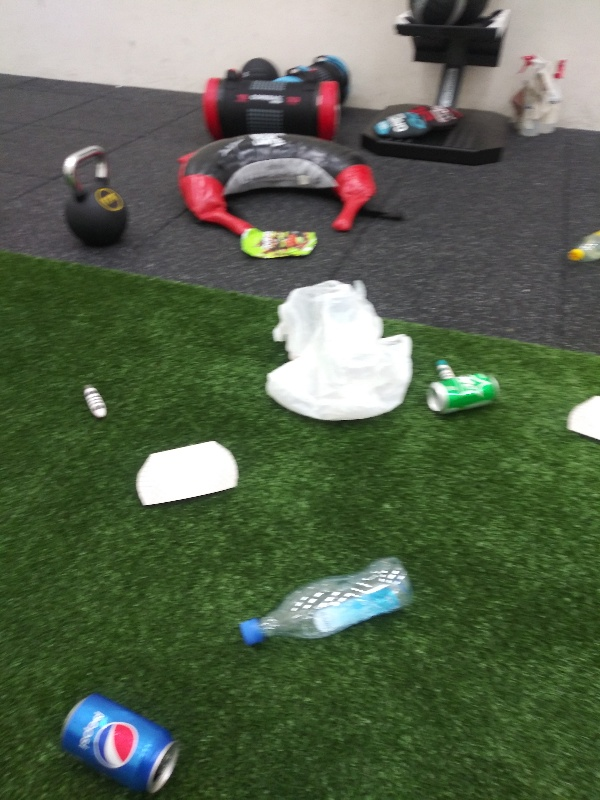bag: (235, 225, 322, 262)
bottle: (234, 553, 420, 650), (561, 225, 600, 271)
can: (53, 694, 187, 797), (424, 369, 508, 414)
plate: (134, 434, 243, 512), (562, 392, 600, 453)
